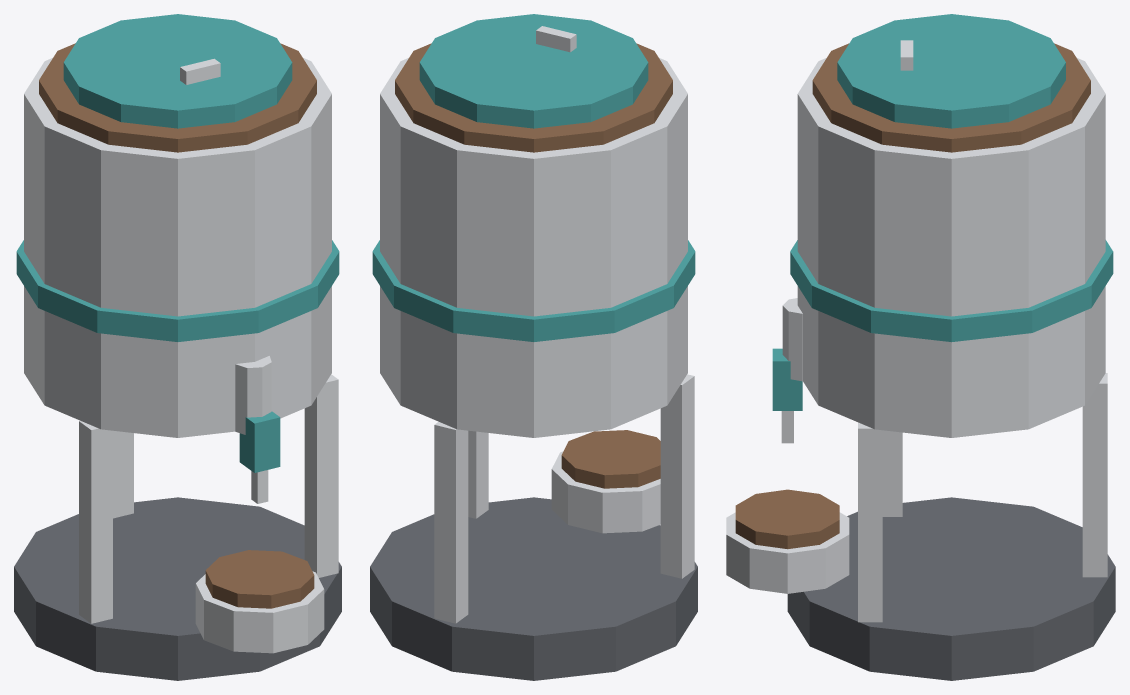
File: chocolate-and-confectionery-factory-chocolate-tank-wit-aec6b509__36762.glb
3 views of the same model, side by side, from view 1: azimuth 30°, elevation 25°; view 2: azimuth 150°, elevation 25°; view 3: azimuth 270°, elevation 25° (orthographic).
Parts seen in each view (by area): view 1: chocolate-tank-with-tap, lid-tank/teal, lid-tank/steel; view 2: chocolate-tank-with-tap, lid-tank/teal, lid-tank/steel; view 3: chocolate-tank-with-tap, lid-tank/teal.
Part boxes in pixels (x1,y1,x2,y2): chocolate-tank-with-tap: (14, 43, 341, 680); lid-tank/teal: (63, 14, 292, 128); lid-tank/steel: (180, 58, 220, 84); chocolate-tank-with-tap: (370, 43, 697, 680); lid-tank/teal: (419, 14, 648, 128); lid-tank/steel: (536, 26, 576, 52); chocolate-tank-with-tap: (726, 43, 1115, 680); lid-tank/teal: (837, 14, 1065, 128).
Size of the model in its own units: 1.32 by 2.5 by 1.57.
